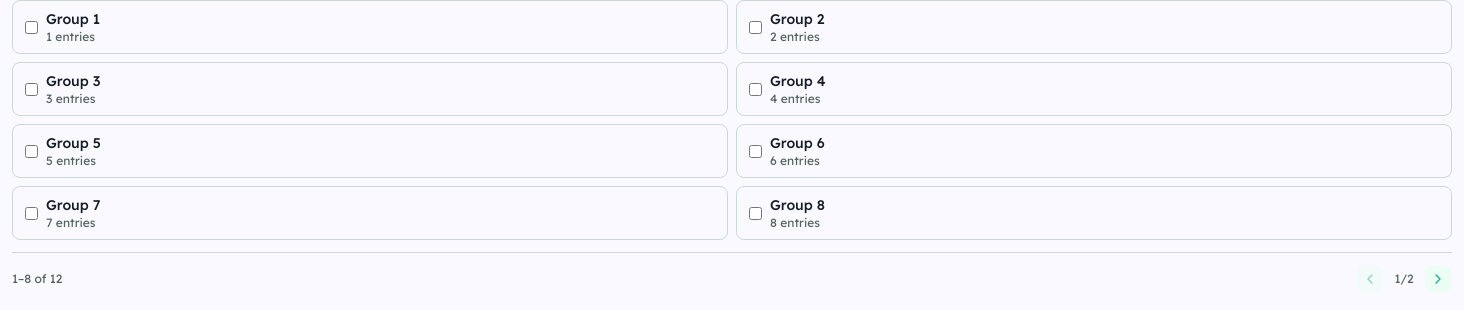
Test case: AgentAttachCheckboxList › keeps a checked item in the form payload after paging away
What coordinates should you click on to do the following:
click the checkbox labelled "Group 2 2 entries"
I would click on:
 (756, 27)
Its box is [749,20,762,34].
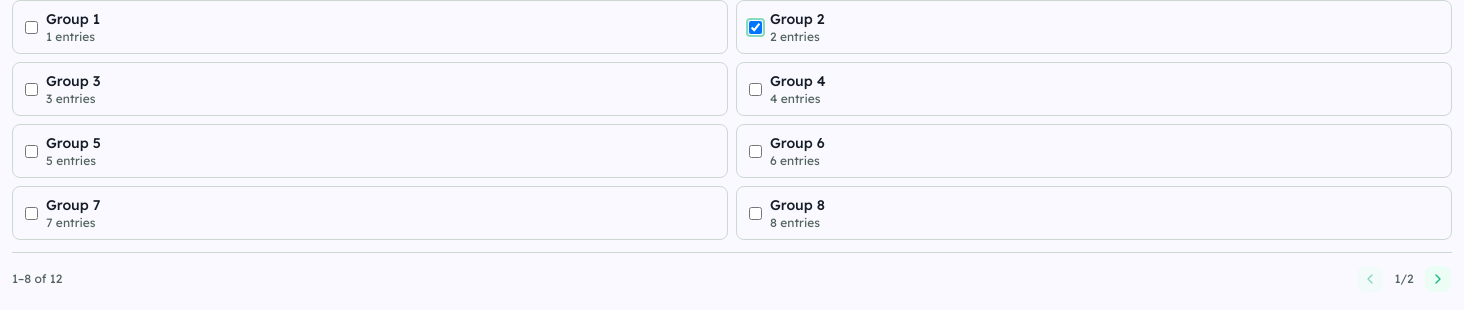
What coordinates should you click on to do the following:
click the button named "Next page"
I would click on:
 (1438, 279)
Its box is [1424,265,1452,293].
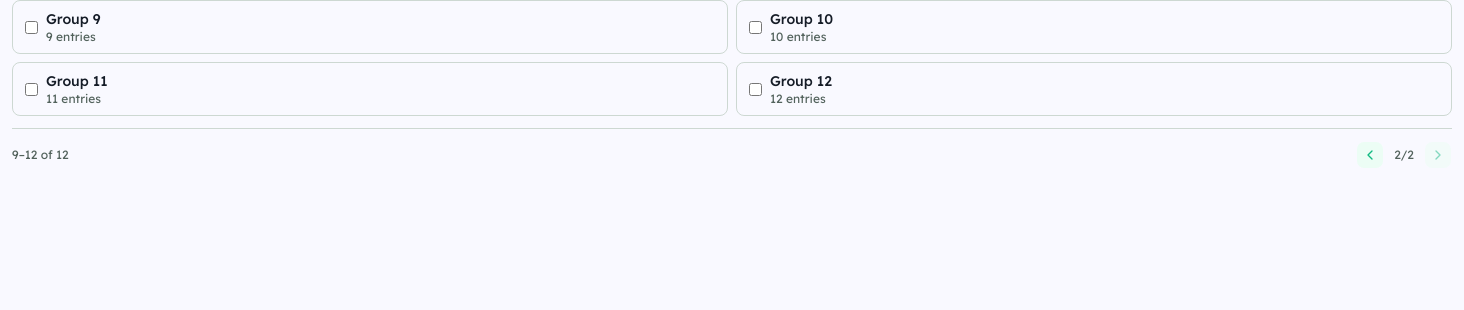
Now the text "Group 2" is gone
